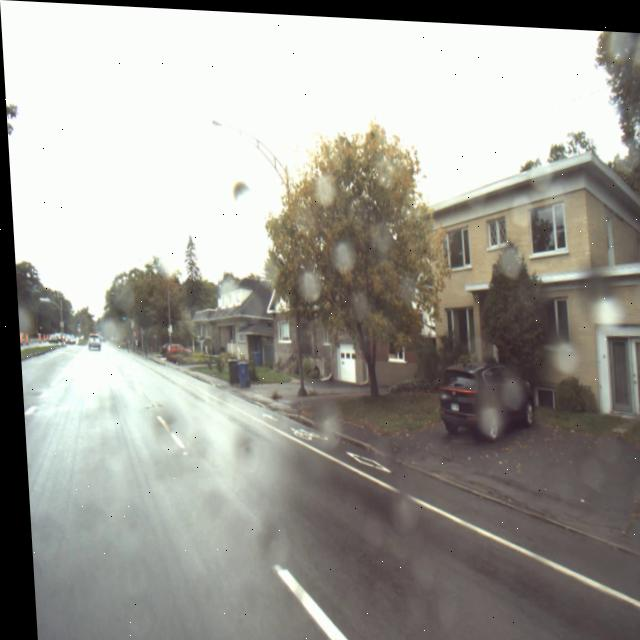car: (432, 357, 531, 435), (155, 340, 187, 357), (83, 333, 97, 351)
